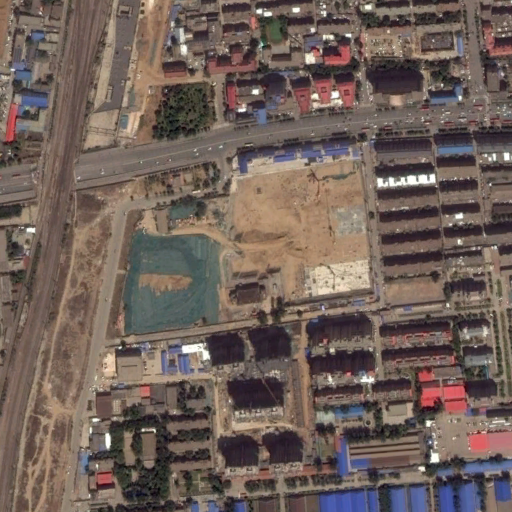cw: (113, 196, 222, 342)
